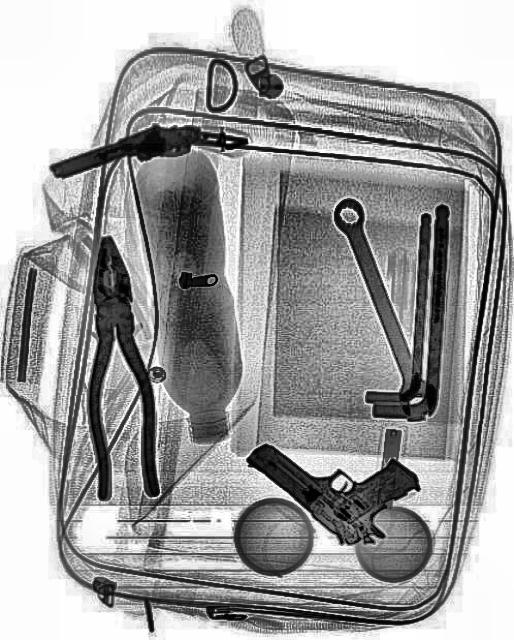Gun: (244, 374, 425, 566), (47, 110, 249, 178)
Pliers: (74, 231, 160, 501)
Wrench: (326, 188, 444, 424)
